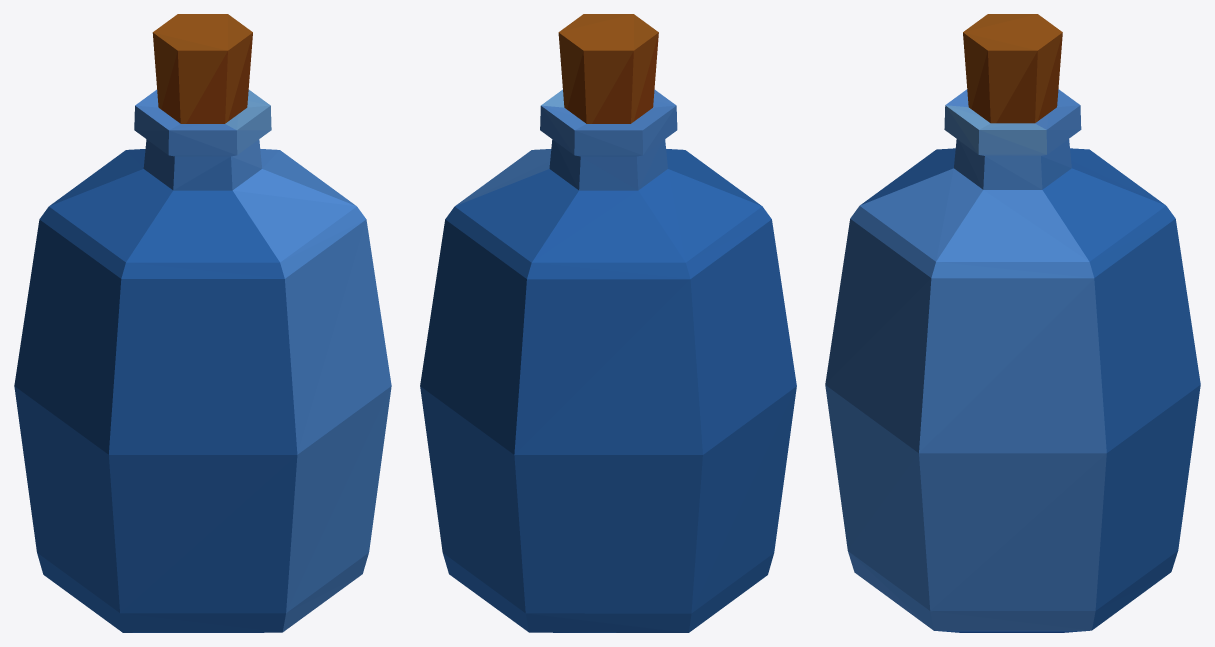
Rendered from prop_bottle_potion_mana6.fbx.
3 renders of one model, left to right at view 1: azimuth 30°, elevation 25°; view 2: azimuth 150°, elevation 25°; view 3: azimuth 270°, elevation 25°, orthographic.
Parts seen in each view (by area): view 1: prop_bottle_potion_mana6; view 2: prop_bottle_potion_mana6; view 3: prop_bottle_potion_mana6.
Part boxes in pixels (left/top/right/bottom): prop_bottle_potion_mana6: left=14, top=14, right=391, bottom=632; prop_bottle_potion_mana6: left=420, top=14, right=796, bottom=632; prop_bottle_potion_mana6: left=825, top=14, right=1200, bottom=632.
Size of the model in its own units: 0.604 by 1.15 by 0.6967.
